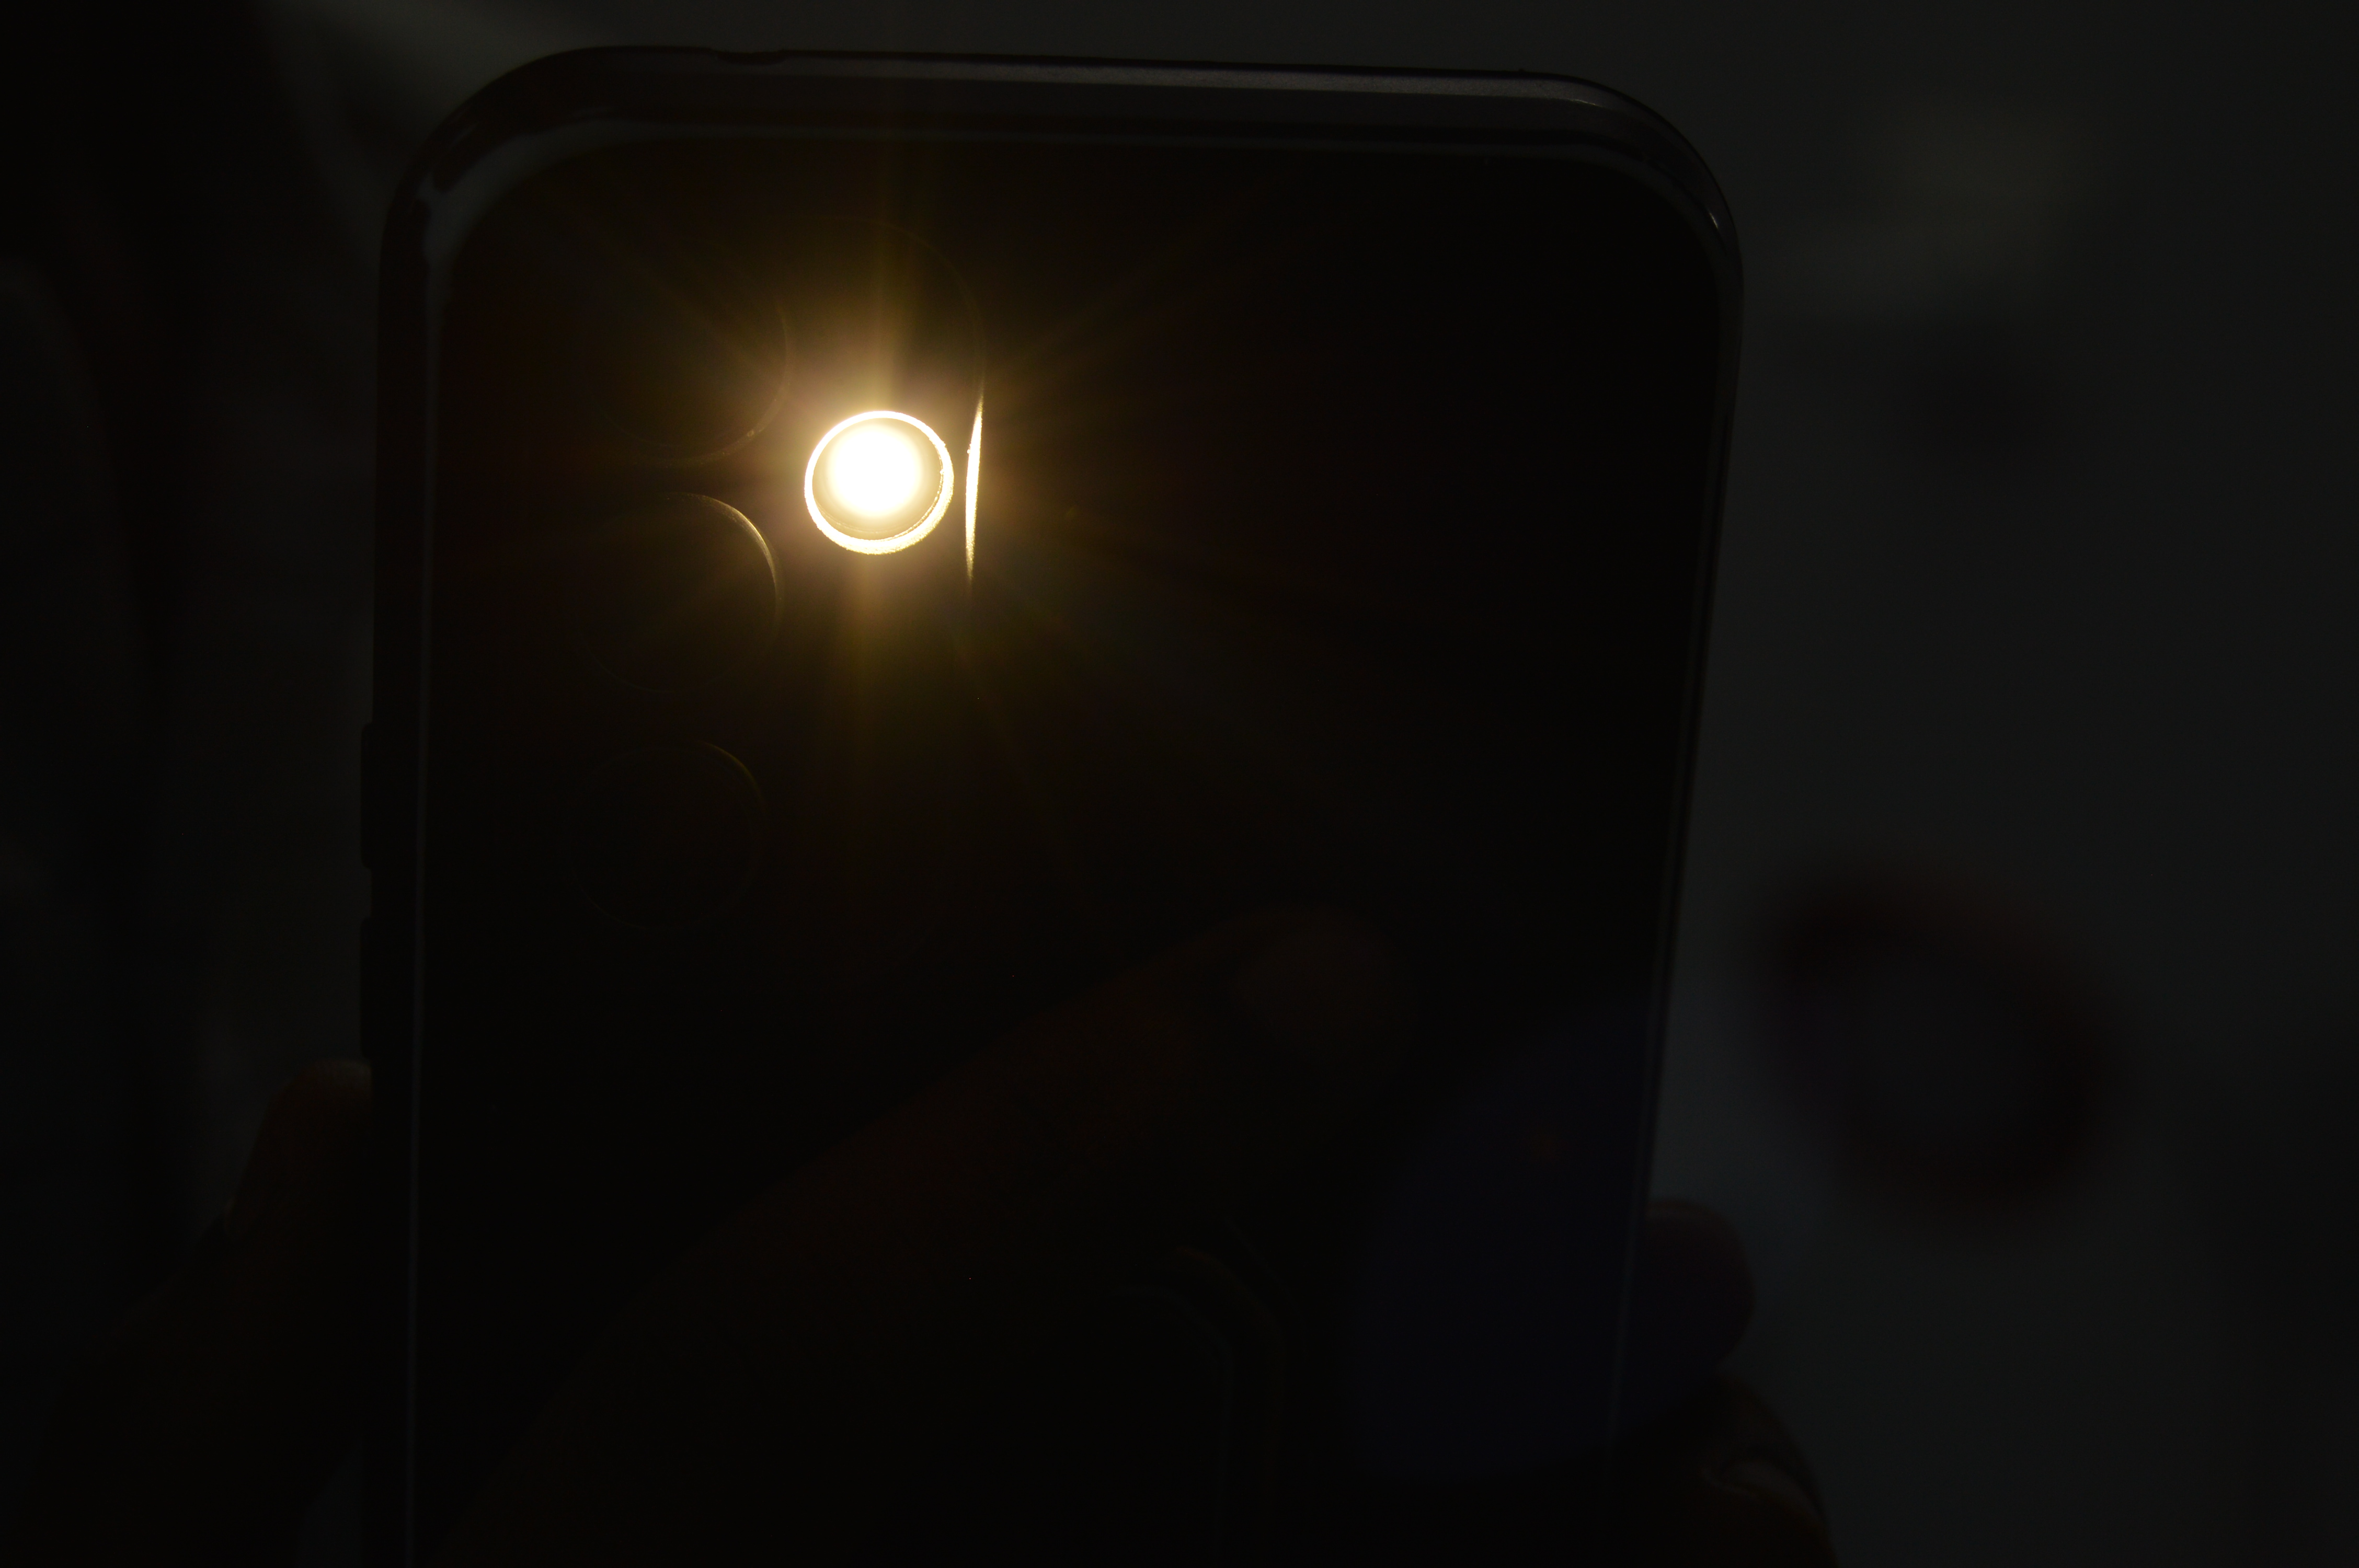Glare: (810, 420, 940, 553)
